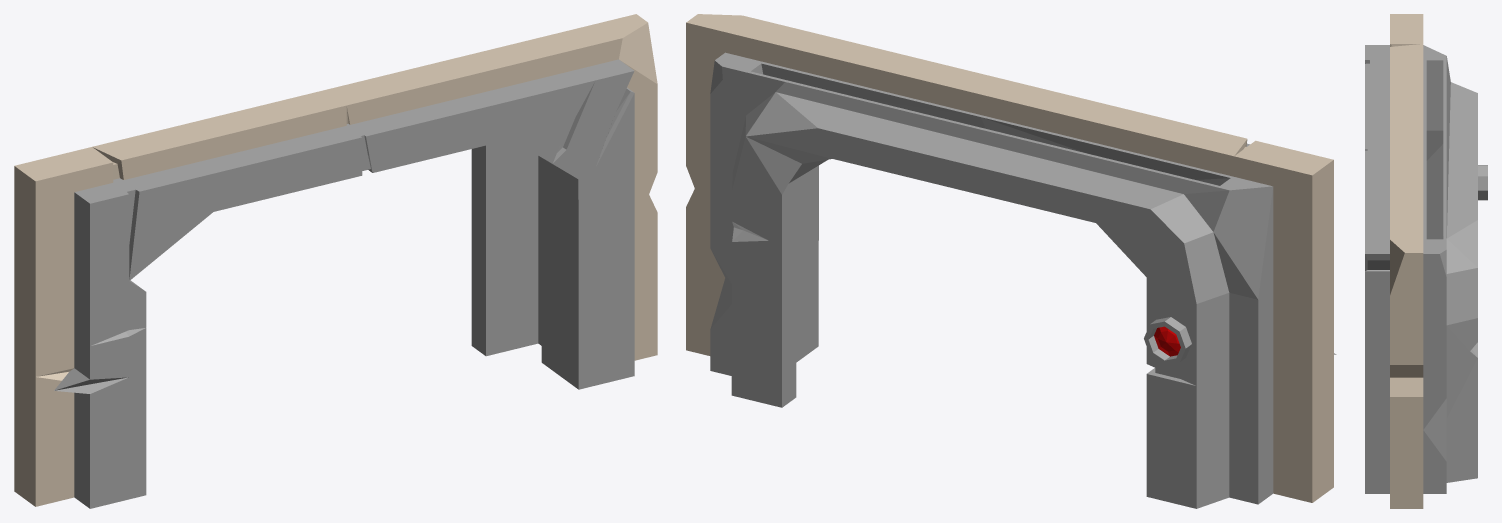
File: DoorFrame_002.fbx
3 views of the same model, side by side, from view 1: azimuth 30°, elevation 25°; view 2: azimuth 150°, elevation 25°; view 3: azimuth 270°, elevation 25° (orthographic). The views are drawn at different scales.
Parts seen in each view (by area): view 1: Doorframe_002; view 2: Doorframe_002; view 3: Doorframe_002.
Part boxes in pixels (left/top/right/bottom): Doorframe_002: left=14, top=14, right=657, bottom=508; Doorframe_002: left=686, top=14, right=1336, bottom=508; Doorframe_002: left=1365, top=14, right=1487, bottom=508.
Bounding box in the file's own units: 6 × 3 × 1.3.
